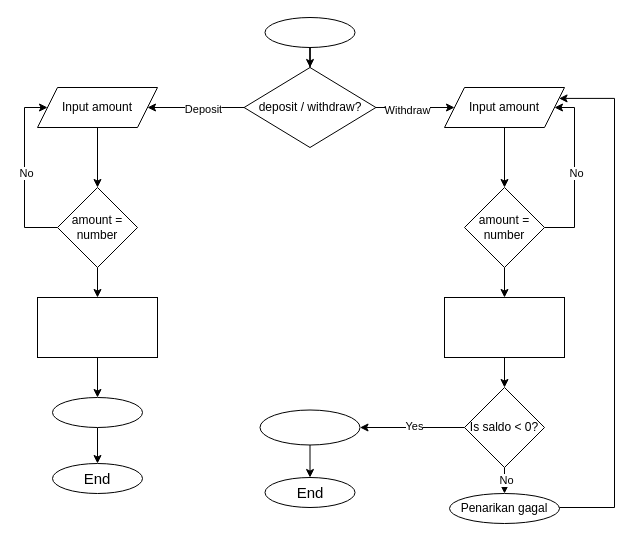
Image size: 640x541. Some labels were removed from this diagram. The shapes that lost their labels are listed below. From the top down, each one's box as (x1, y1, x2, y2) in pixels, then its label:
(264, 16, 355, 48): Start
(36, 296, 158, 358): Saldo += amount
(444, 296, 564, 358): Saldo -= amount
(52, 396, 142, 428): Berhasil
(259, 409, 360, 445): Penarikan berhasil
